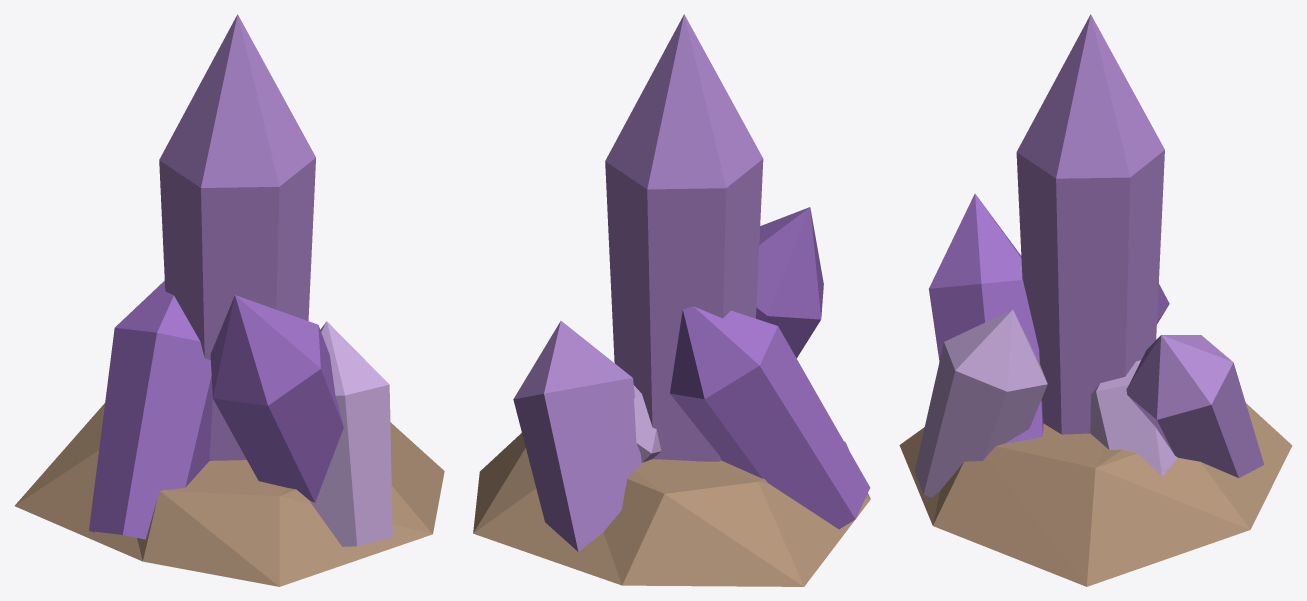
File: tarhut_cristal_1.glb
3 views of the same model, side by side, from view 1: azimuth 30°, elevation 25°; view 2: azimuth 150°, elevation 25°; view 3: azimuth 270°, elevation 25° (orthographic). The views are drawn at different scales.
Visible parts, largest first — view 1: cristal; view 2: cristal; view 3: cristal.
Part boxes in pixels (x1,y1,x2,y2): cristal: (14,14,444,586); cristal: (473,14,870,586); cristal: (899,14,1292,586).
Size of the model in its own units: 1.31 by 1.68 by 1.25.
